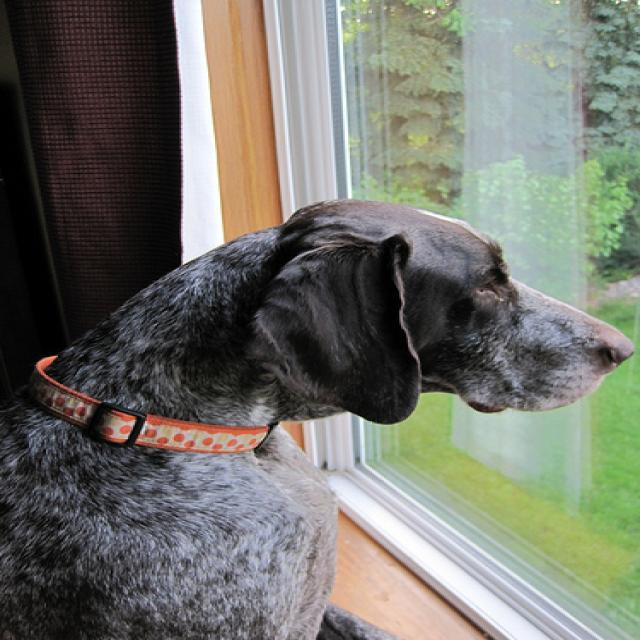dog-german_shorthaired: (2, 189, 637, 637)
